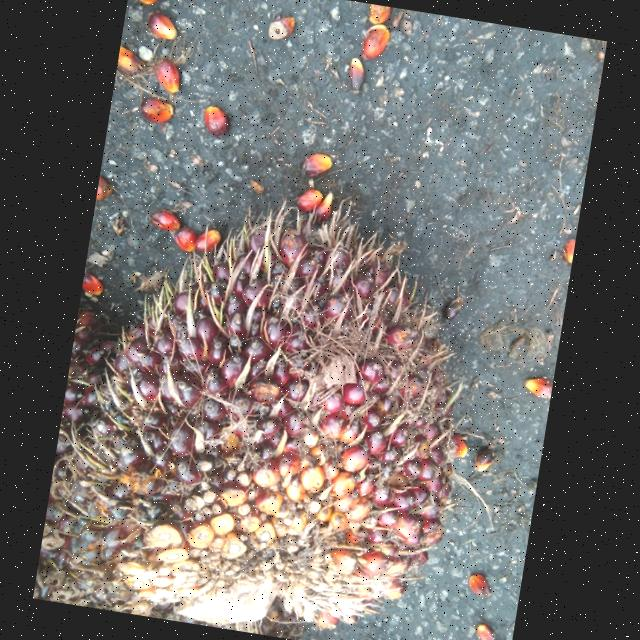Unripe: (34, 216, 466, 632)
